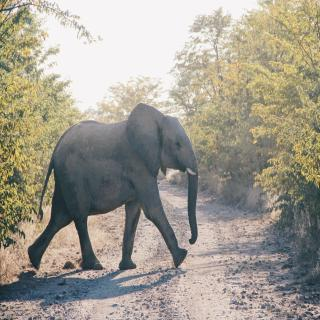Elephant: (19, 101, 207, 280)
